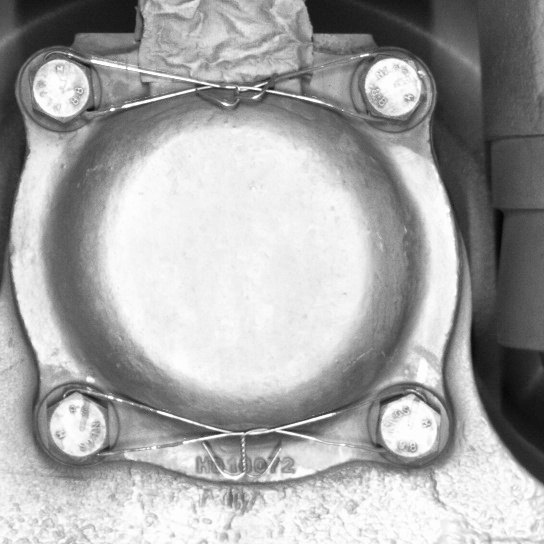IronWire: (39, 382, 446, 473), (22, 45, 431, 131)
Screw: (368, 382, 446, 472), (22, 45, 103, 131), (351, 44, 431, 131), (38, 385, 117, 469)
